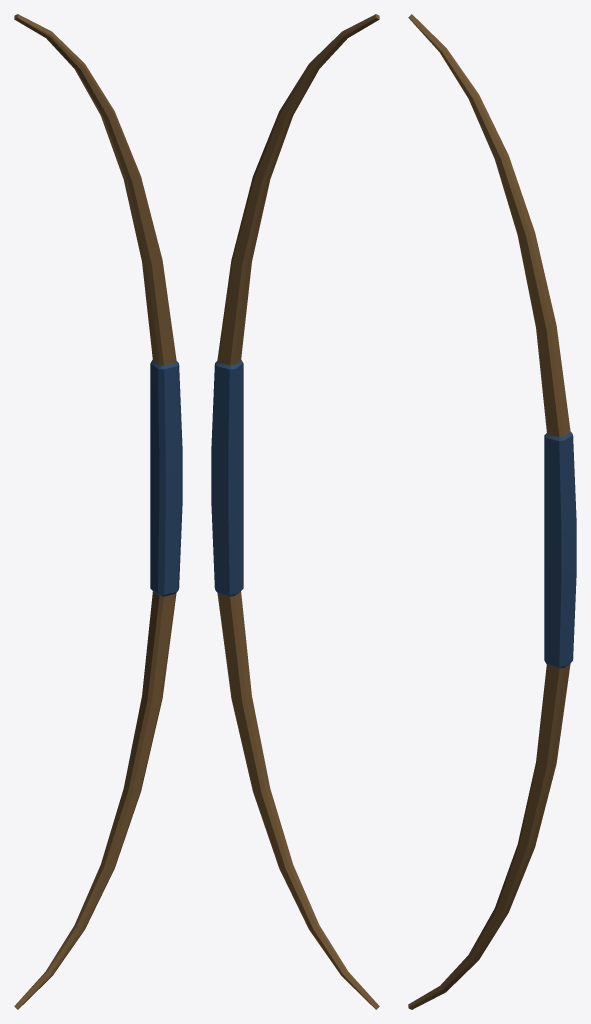
File: LongBow.fbx
The picture shows the model from 3 angles, left to right: view 1: azimuth 30°, elevation 25°; view 2: azimuth 150°, elevation 25°; view 3: azimuth 330°, elevation 25°; orthographic projection.
Visible parts, largest first — view 1: LongBow; view 2: LongBow; view 3: LongBow.
Boxes of the visible parts, box(x1,y1,x2,y2) form: LongBow: box(14, 14, 182, 1009); LongBow: box(211, 14, 379, 1009); LongBow: box(408, 14, 576, 1009).
Bounding box in the file's own units: 0.6859 × 3.99 × 0.0978.
